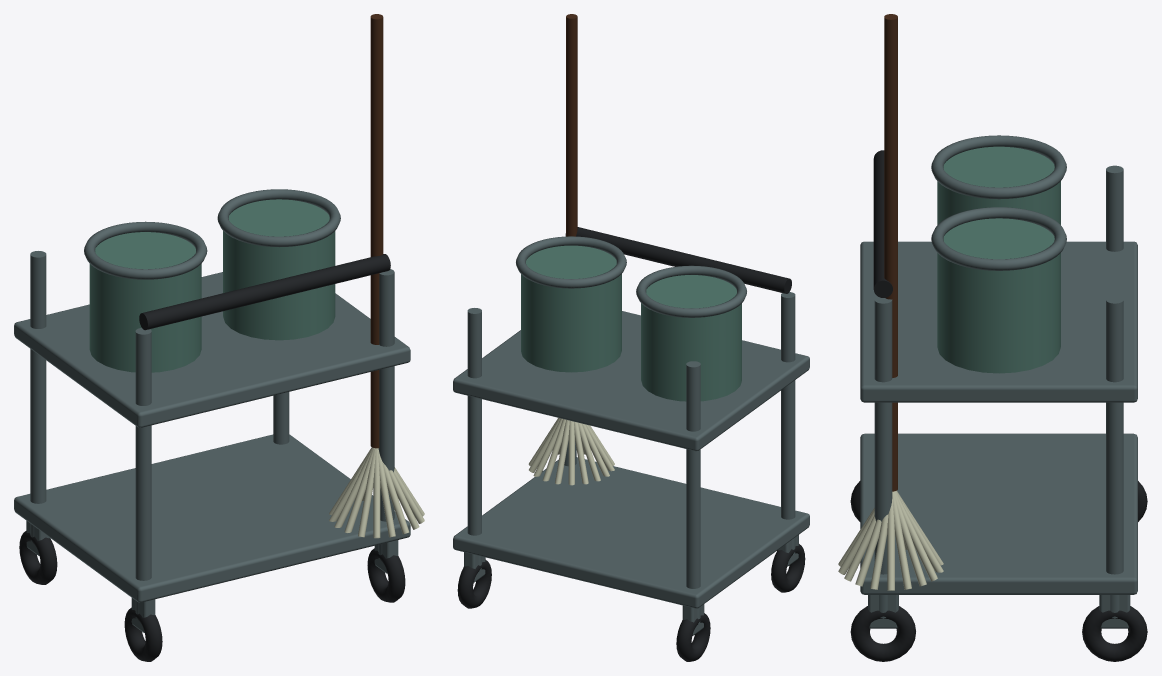
The model's file is JanitorCart.obj.
3 renders of one model, left to right at view 1: azimuth 30°, elevation 25°; view 2: azimuth 150°, elevation 25°; view 3: azimuth 270°, elevation 25°, orthographic. The views are drawn at different scales.
Parts seen in each view (by area): view 1: JanitorCart; view 2: JanitorCart; view 3: JanitorCart.
Boxes of the visible parts, x1,y1,x2,y2 form: JanitorCart: (14,14,424,661); JanitorCart: (453,14,809,661); JanitorCart: (838,14,1147,661).
Size of the model in its own units: 0.9687 by 1.84 by 0.8018.
